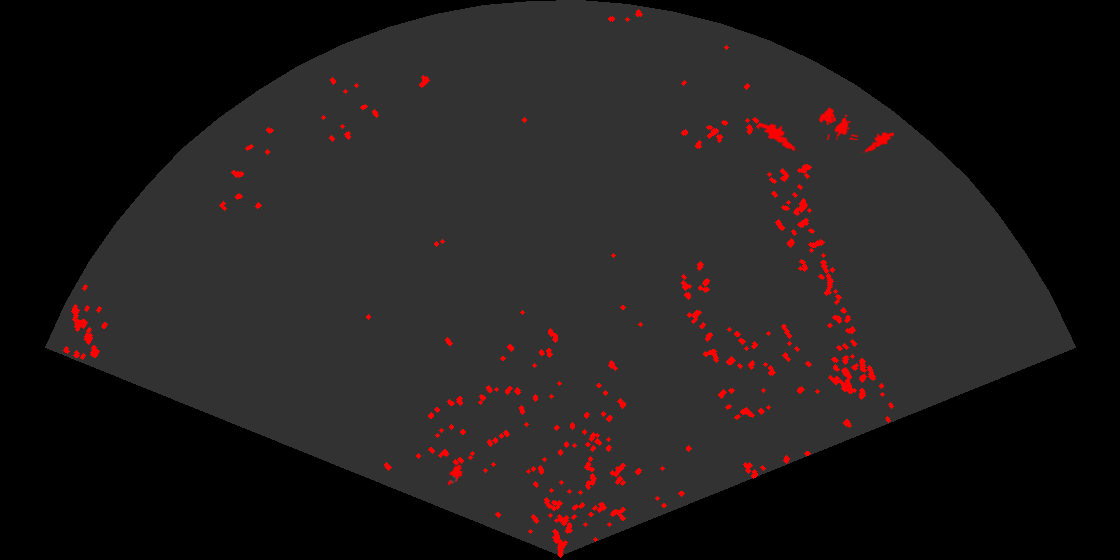AUV: (446, 463, 464, 487)
cage: (817, 106, 858, 140)
frogman: (759, 121, 801, 152), (861, 130, 894, 154)
